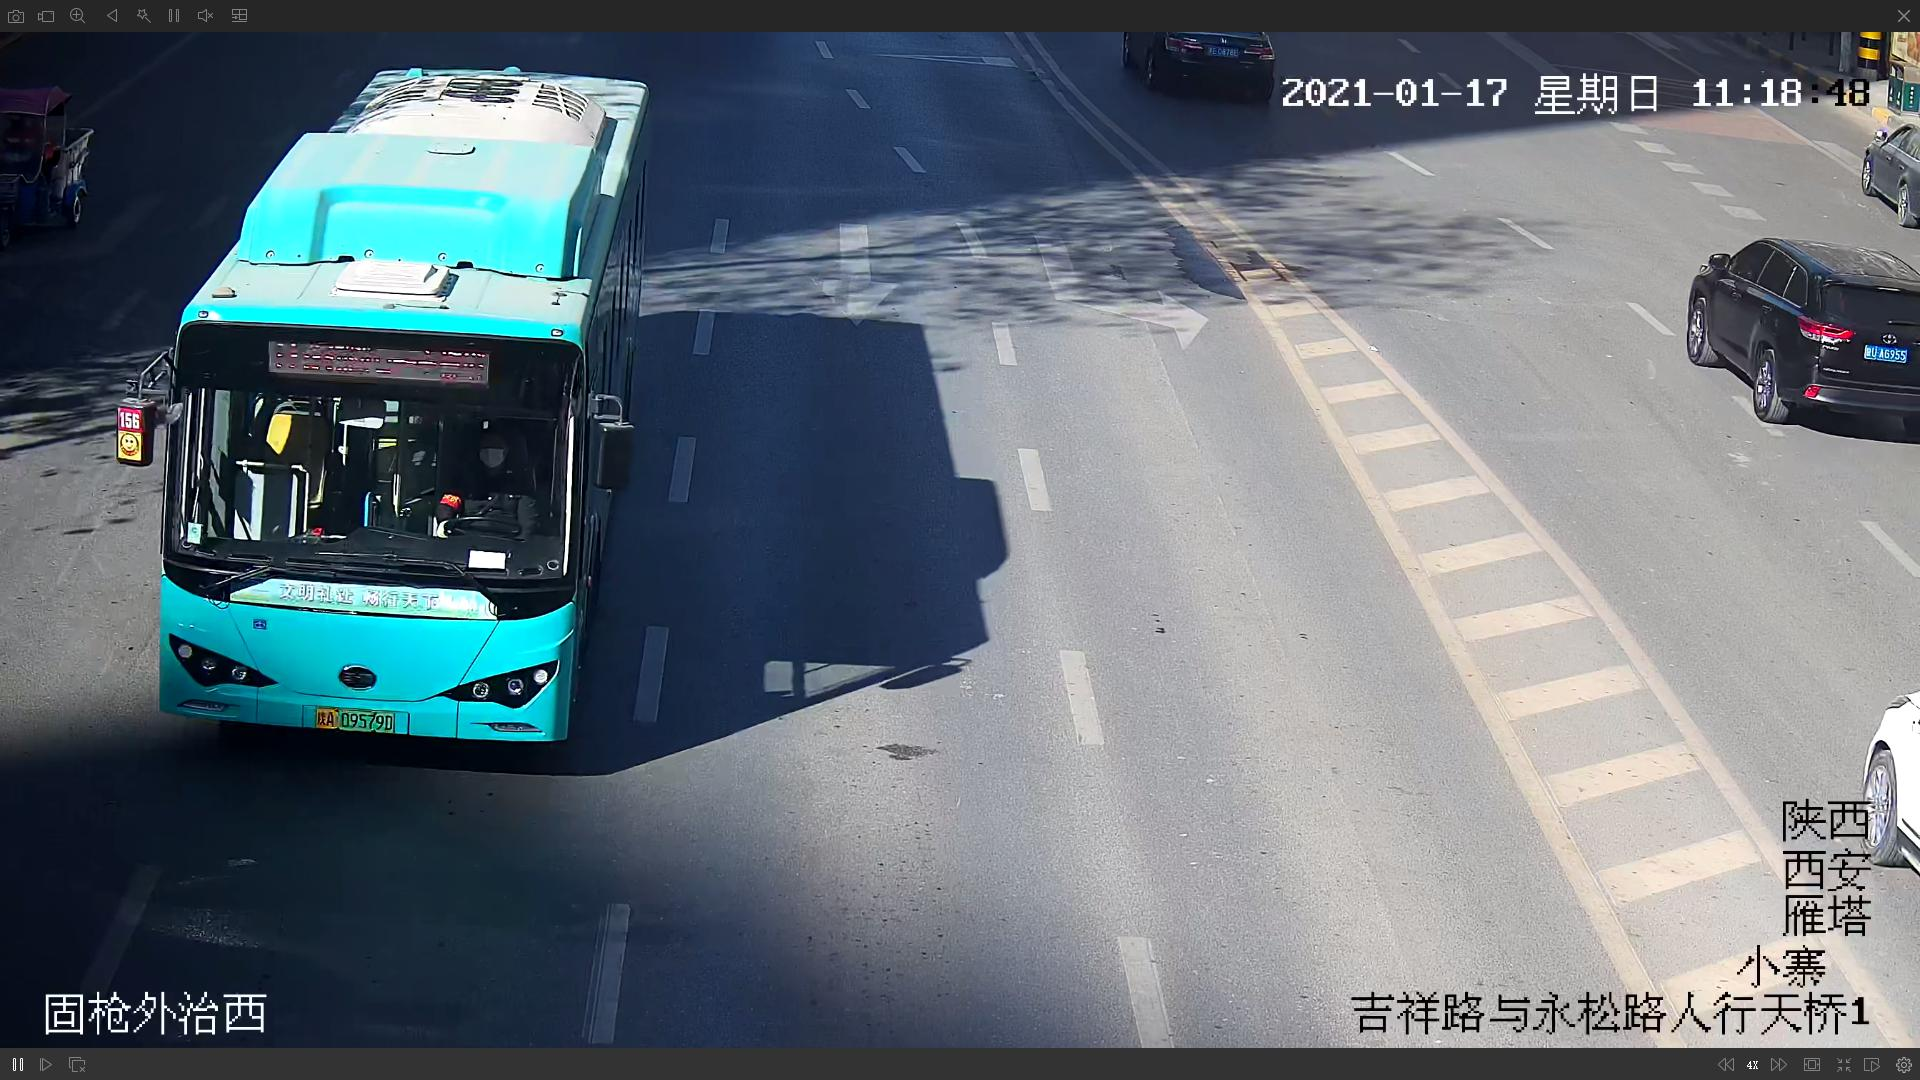cyan: (132, 71, 661, 752)
